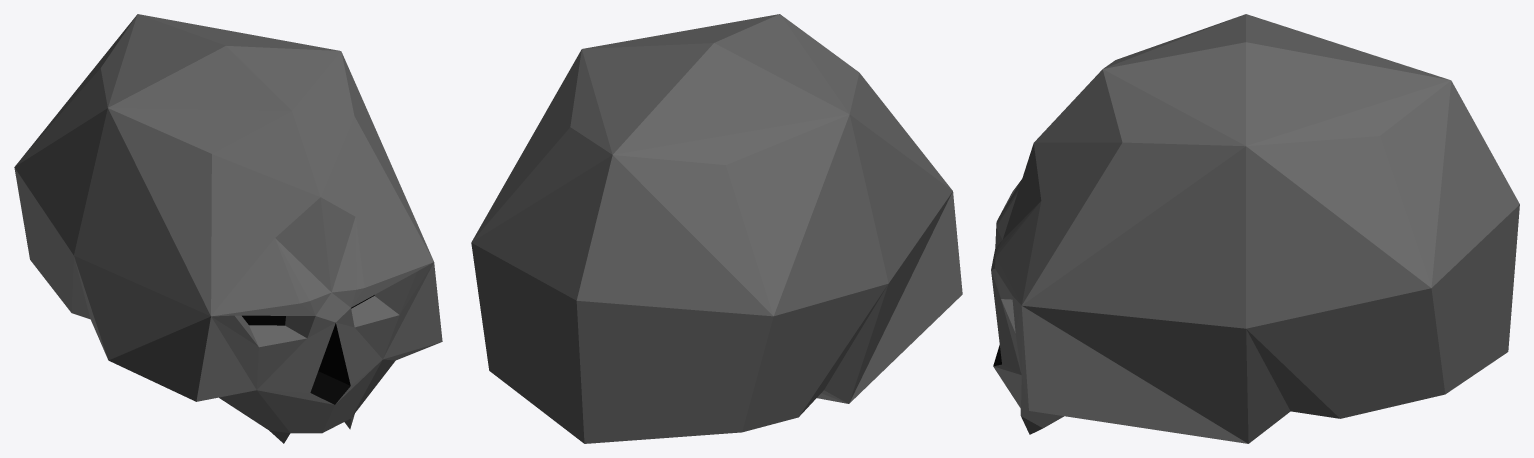
Rendered from Enemy_Skull_0.fbx.
3 views of the same model, side by side, from view 1: azimuth 30°, elevation 25°; view 2: azimuth 150°, elevation 25°; view 3: azimuth 270°, elevation 25° (orthographic). The views are drawn at different scales.
Visible parts, largest first — view 1: Enemy_Skull_0; view 2: Enemy_Skull_0; view 3: Enemy_Skull_0.
Part boxes in pixels (left/top/right/bottom): Enemy_Skull_0: left=14, top=14, right=442, bottom=443; Enemy_Skull_0: left=471, top=14, right=962, bottom=443; Enemy_Skull_0: left=991, top=14, right=1519, bottom=443.
Bounding box in the file's own units: 171 × 173 × 221.
